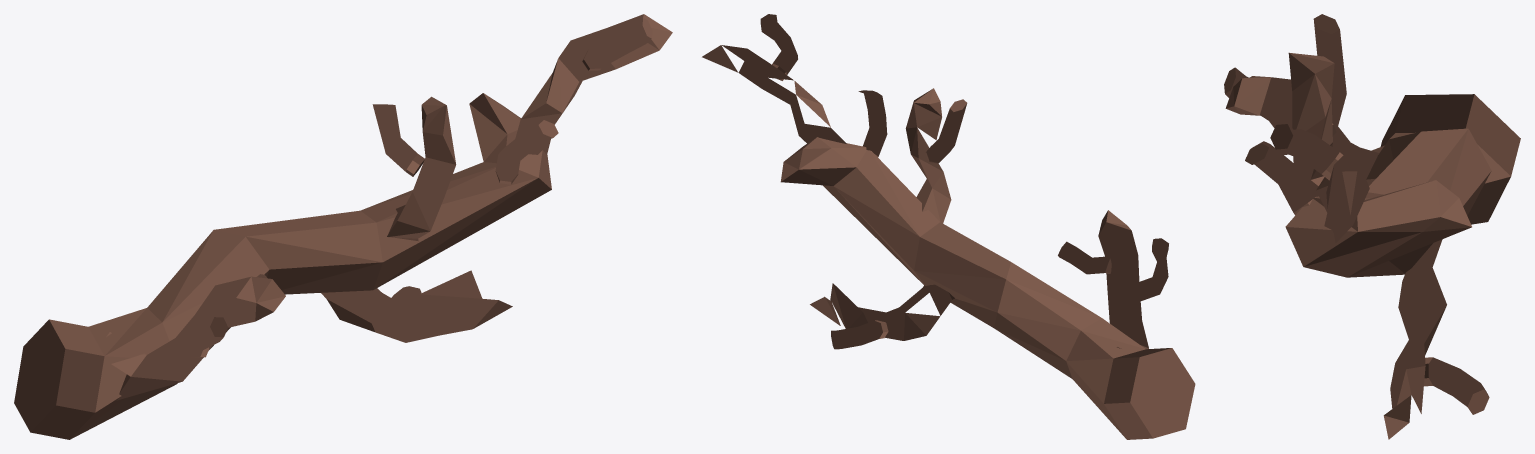
Rendered from Tree Branch.glb.
3 renders of one model, left to right at view 1: azimuth 30°, elevation 25°; view 2: azimuth 150°, elevation 25°; view 3: azimuth 270°, elevation 25°, orthographic. The views are drawn at different scales.
Parts seen in each view (by area): view 1: Node; view 2: Node; view 3: Node.
Part boxes in pixels (bbox=[...]): Node: bbox=[14, 14, 672, 439]; Node: bbox=[702, 14, 1195, 439]; Node: bbox=[1224, 14, 1520, 439].
Bounding box in the file's own units: 0.3073 × 0.1602 × 0.1033.
